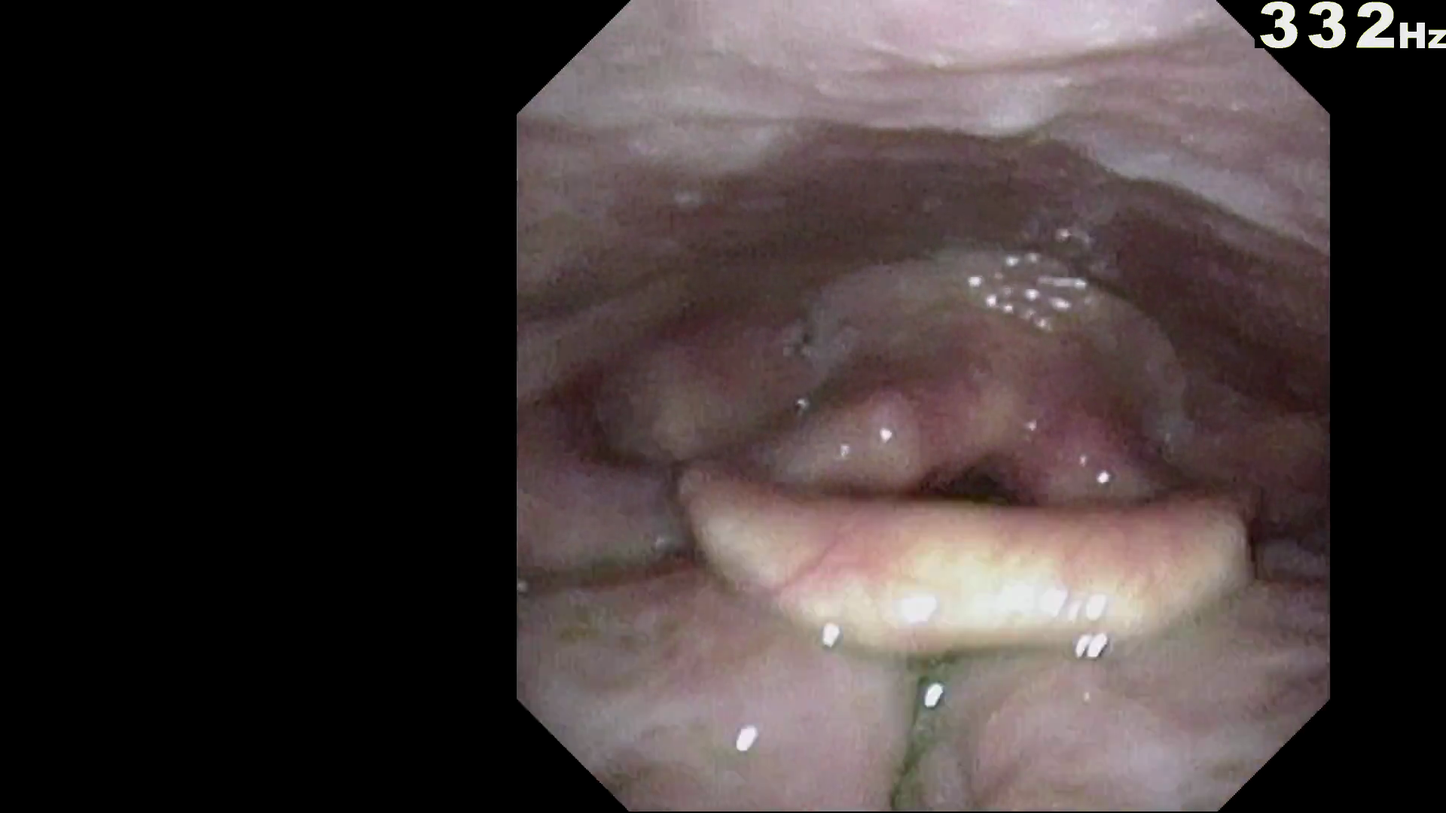epiglottis: (672, 469, 1262, 647)
trachea: (916, 441, 1039, 541)
